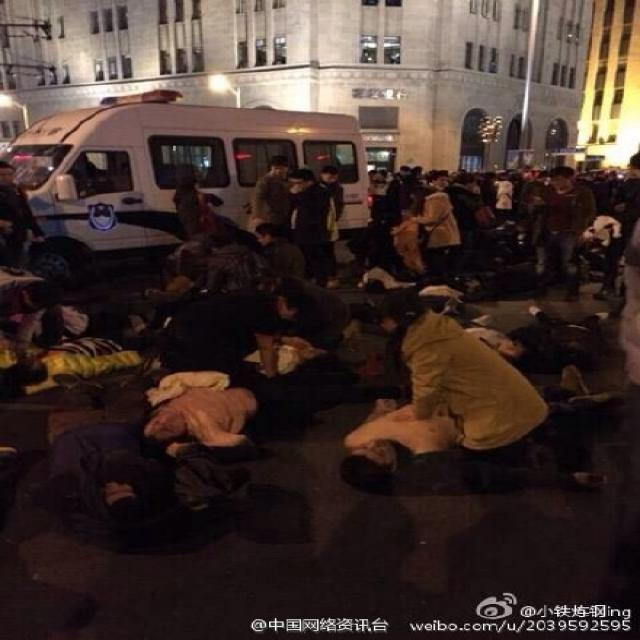10-: (0, 120, 637, 515)
down: (310, 342, 609, 493), (122, 332, 335, 466), (7, 329, 144, 399), (513, 292, 627, 368)
